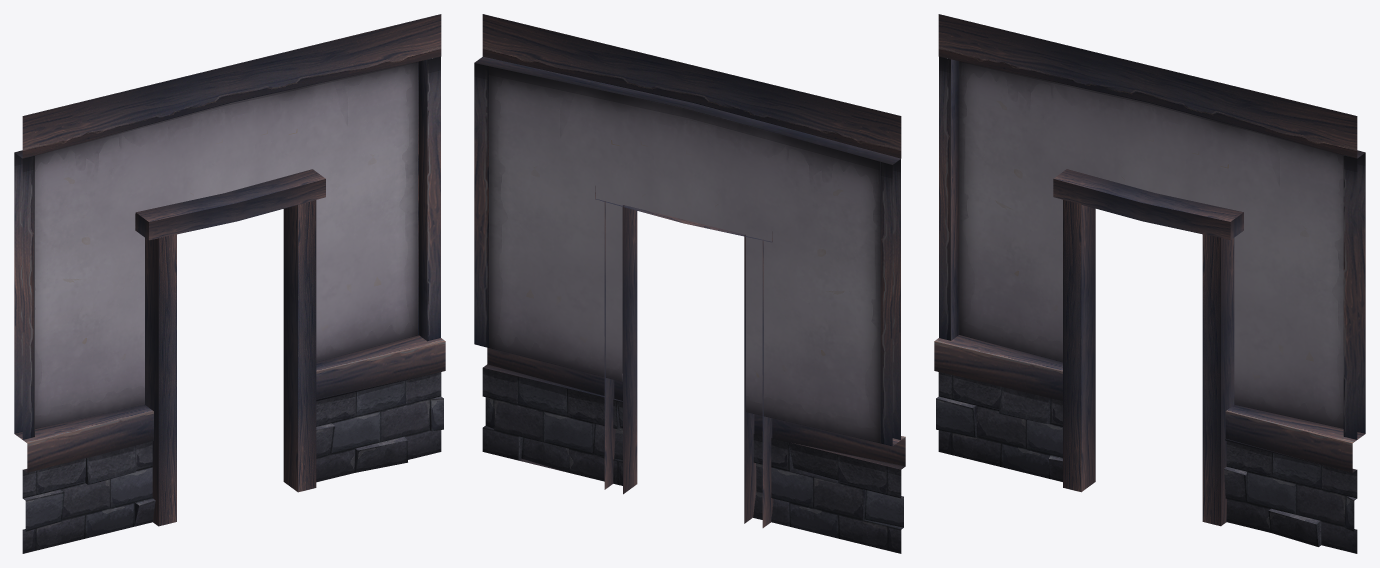
The model's file is WallDoor_1sided_detailed.fbx.
3 renders of one model, left to right at view 1: azimuth 30°, elevation 25°; view 2: azimuth 150°, elevation 25°; view 3: azimuth 330°, elevation 25°, orthographic.
Parts seen in each view (by area): view 1: WallDoor_1sided_detailed; view 2: WallDoor_1sided_detailed; view 3: WallDoor_1sided_detailed.
Boxes of the visible parts, <box> form: WallDoor_1sided_detailed: <box>14,14,445,553</box>; WallDoor_1sided_detailed: <box>474,14,905,553</box>; WallDoor_1sided_detailed: <box>934,14,1365,553</box>.
Size of the model in its own units: 0.6266 by 0.6266 by 0.0371.
